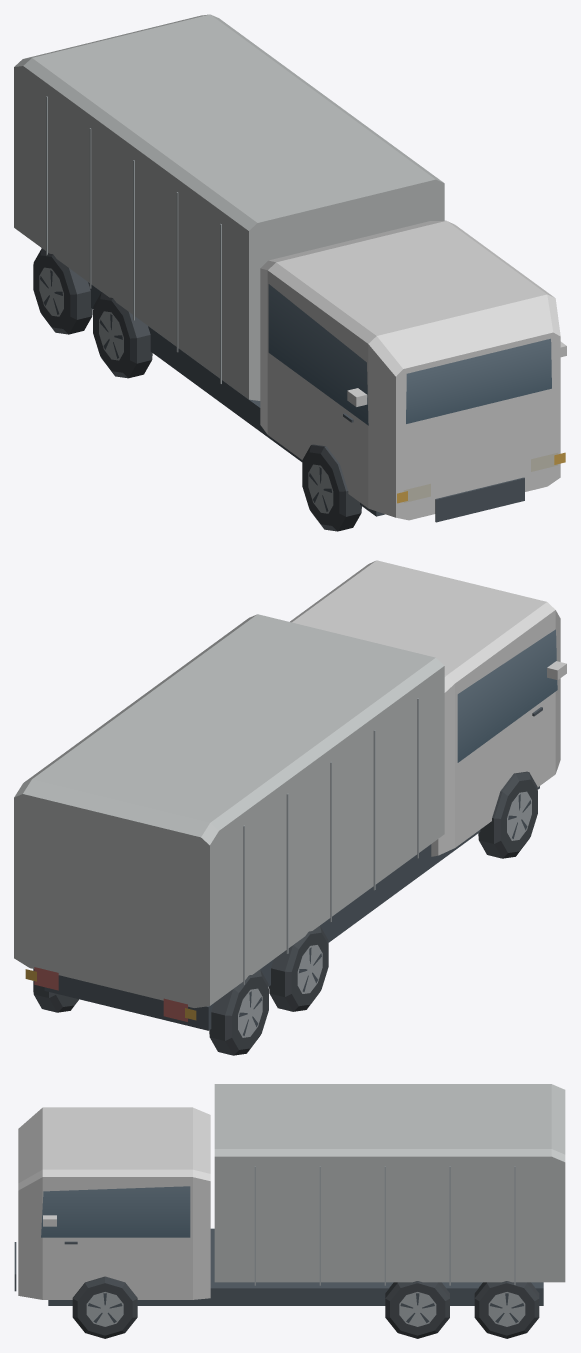
File: truck.glb
The picture shows the model from 3 angles, top to bottom: view 1: azimuth 30°, elevation 25°; view 2: azimuth 150°, elevation 25°; view 3: azimuth 270°, elevation 25°; orthographic projection. The views are drawn at different scales.
Visible parts, largest first — view 1: body; view 2: body; view 3: body.
Part boxes in pixels (left/top/right/bottom): body: left=14, top=14, right=566, bottom=531; body: left=14, top=560, right=566, bottom=1055; body: left=14, top=1084, right=565, bottom=1338.
Bounding box in the file's own units: 2.24 × 2.55 × 6.81.
